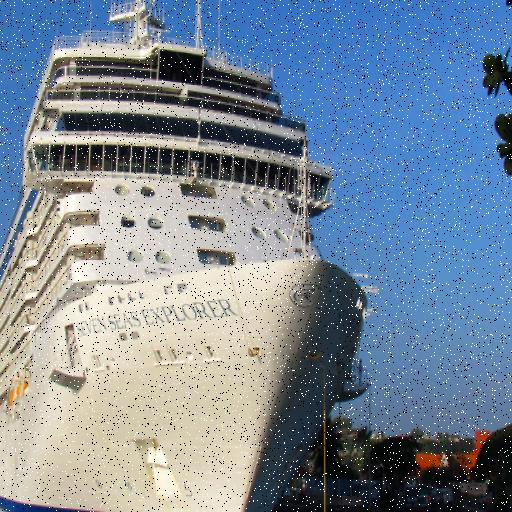cruises: (1, 1, 375, 512)
